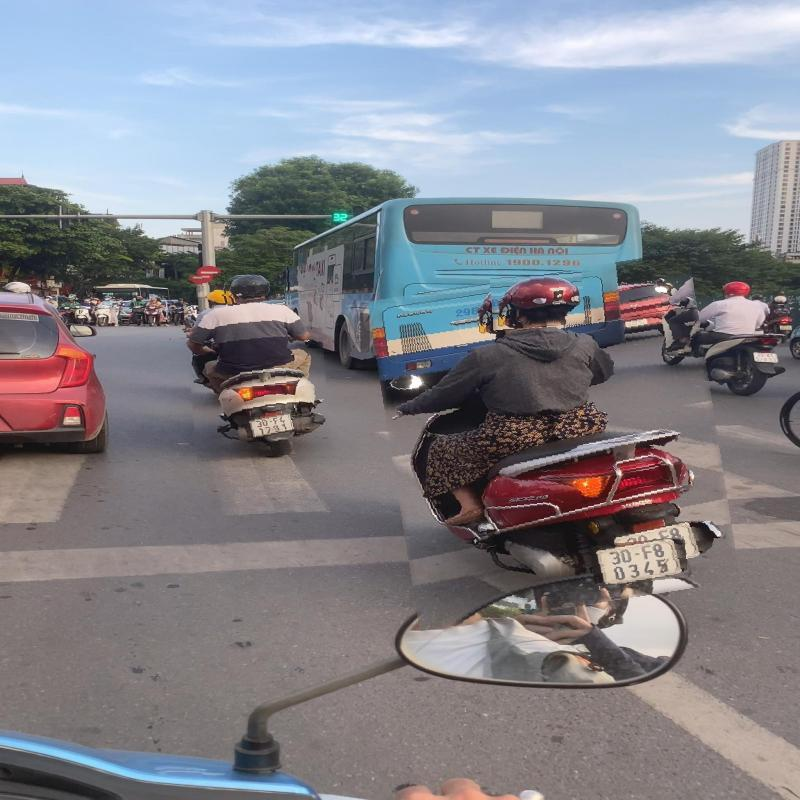helmet: (491, 274, 585, 328), (226, 272, 280, 304)
licenseplate: (591, 538, 688, 585), (246, 412, 300, 437)
motorcyclist: (379, 262, 728, 620), (186, 268, 328, 460)
